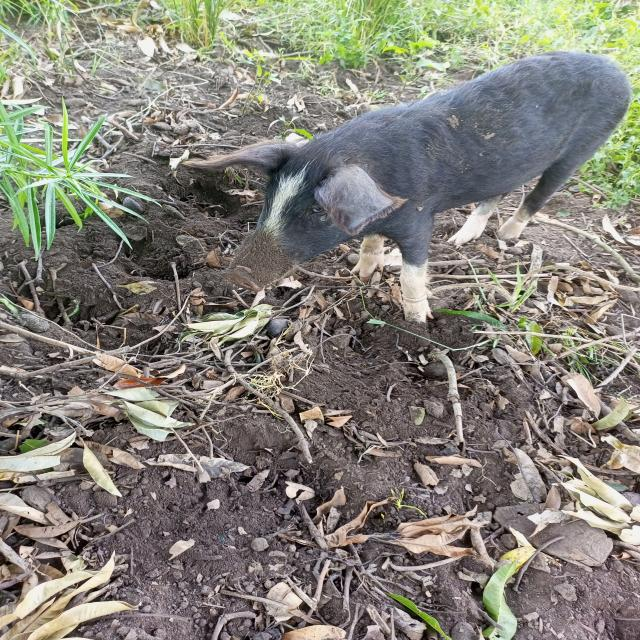pig: (140, 21, 640, 359)
